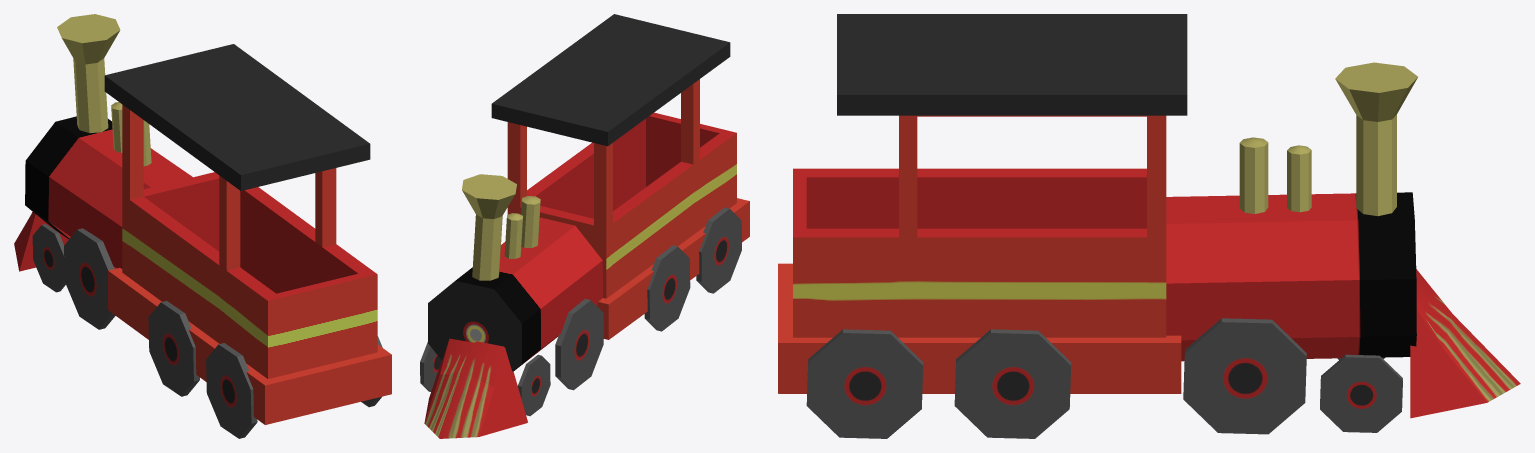
The model's file is Train.fbx.
3 views of the same model, side by side, from view 1: azimuth 30°, elevation 25°; view 2: azimuth 150°, elevation 25°; view 3: azimuth 270°, elevation 25° (orthographic). The views are drawn at different scales.
Visible parts, largest first — view 1: Train; view 2: Train; view 3: Train.
Part boxes in pixels (x1,y1,x2,y2): Train: (14, 14, 391, 438); Train: (420, 14, 749, 438); Train: (778, 14, 1520, 438).
Bounding box in the file's own units: 2.32 × 4.31 × 8.51.
